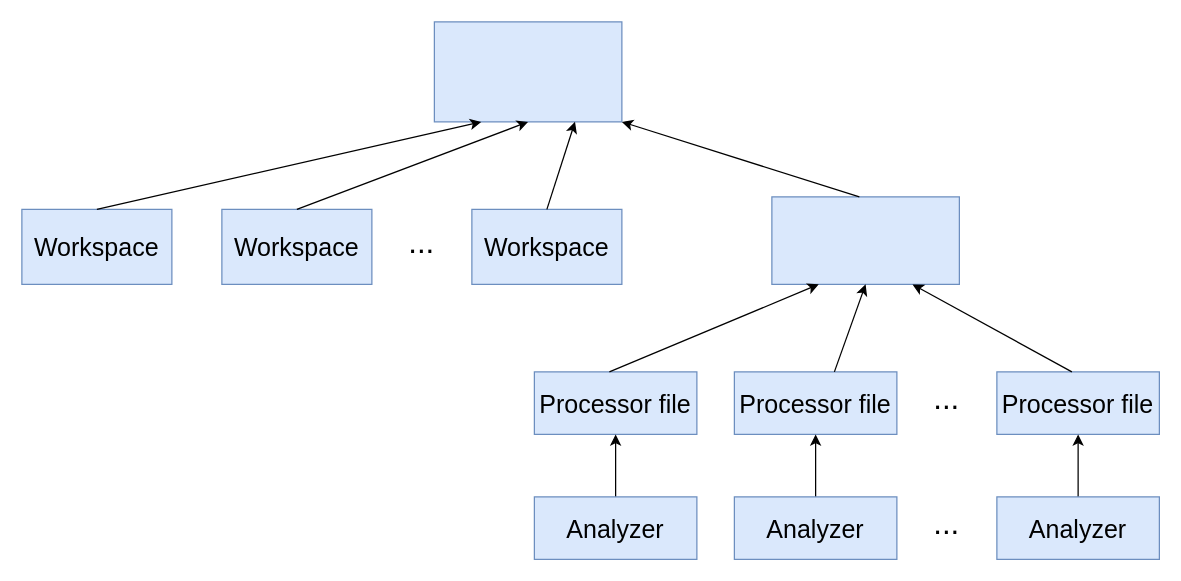
Some shapes in this 1181 by 581 pixel diagram are drawn without their labels. The centre of each missing label's shape, as x and y in pixels:
"File manager" goes at point 865,240.
"Workspace manager" goes at point 527,71.
